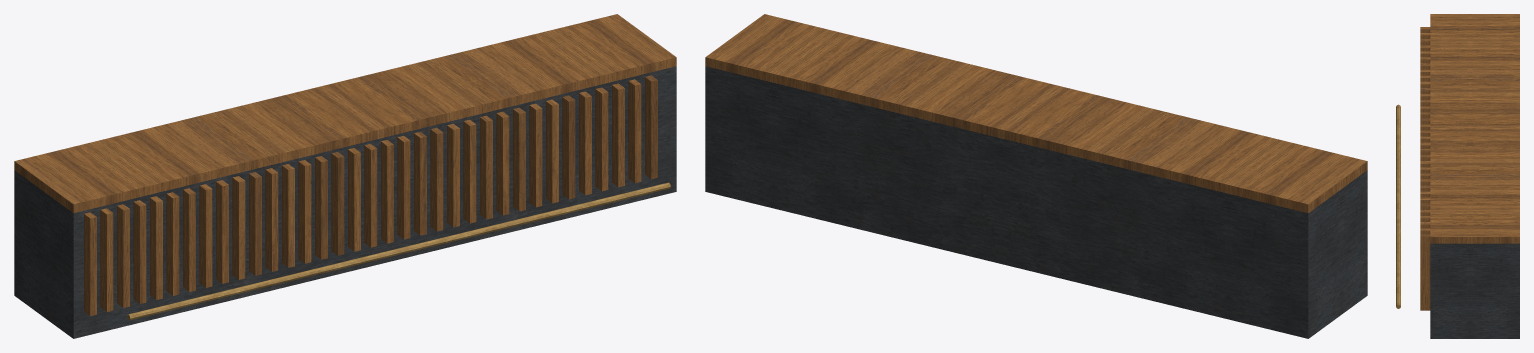
The model's file is commons-bar-counter.glb.
3 renders of one model, left to right at view 1: azimuth 30°, elevation 25°; view 2: azimuth 150°, elevation 25°; view 3: azimuth 270°, elevation 25°, orthographic. The views are drawn at different scales.
Visible parts, largest first — view 1: BarTopReturn.001, FURN_BarReturn.001, FURN_BarFootRail.002, FURN_BarFlute.086, FURN_BarFlute.094, FURN_BarFlute.104, FURN_BarFlute.108, FURN_BarFlute.110, FURN_BarFlute.112, FURN_BarFlute.114, FURN_BarFlute.116, FURN_BarFlute.118 (+26 smaller); view 2: FURN_BarReturn.001, BarTopReturn.001; view 3: BarTopReturn.001, FURN_BarReturn.001, FURN_BarFootRail.002, FURN_BarFlute.119.
Part boxes in pixels (box(x1,y1,x2,y2)): BarTopReturn.001: box(14, 14, 676, 213); FURN_BarReturn.001: box(14, 66, 676, 338); FURN_BarFootRail.002: box(127, 182, 670, 320); FURN_BarFlute.086: box(100, 208, 113, 311); FURN_BarFlute.094: box(232, 176, 245, 279); FURN_BarFlute.104: box(397, 135, 410, 239); FURN_BarFlute.108: box(463, 119, 476, 223); FURN_BarFlute.110: box(496, 111, 509, 215); FURN_BarFlute.112: box(529, 103, 542, 207); FURN_BarFlute.114: box(562, 95, 575, 199); FURN_BarFlute.116: box(595, 87, 608, 191); FURN_BarFlute.118: box(628, 79, 641, 183); FURN_BarReturn.001: box(705, 66, 1367, 338); BarTopReturn.001: box(705, 14, 1367, 213); BarTopReturn.001: box(1430, 14, 1519, 243); FURN_BarReturn.001: box(1430, 243, 1519, 338); FURN_BarFootRail.002: box(1396, 104, 1400, 308); FURN_BarFlute.119: box(1420, 234, 1430, 310).
Size of the model in its own units: 5.3 by 1.13 by 1.24.
3 materials, 3 textured.
